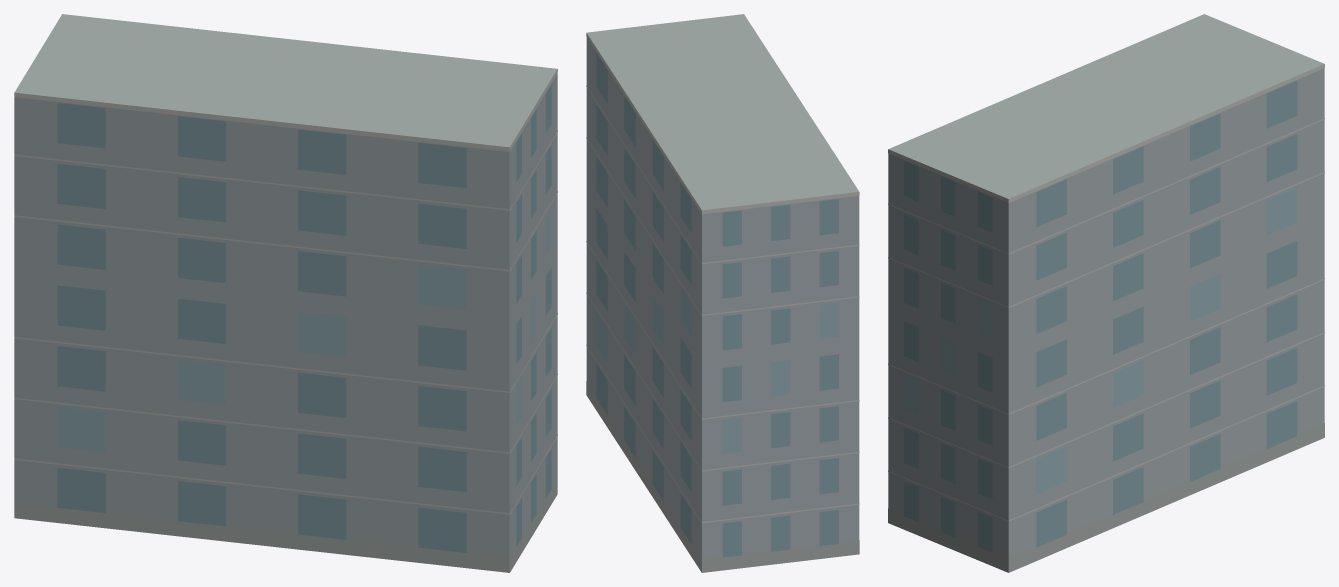
The model's file is survey-upis-32935321.glb.
3 views of the same model, side by side, from view 1: azimuth 30°, elevation 25°; view 2: azimuth 150°, elevation 25°; view 3: azimuth 270°, elevation 25° (orthographic). The views are drawn at different scales.
Parts seen in each view (by area): view 1: survey-upis-32935321.tmp; view 2: survey-upis-32935321.tmp; view 3: survey-upis-32935321.tmp.
Part boxes in pixels (x1,y1,x2,y2): survey-upis-32935321.tmp: (14, 14, 557, 572); survey-upis-32935321.tmp: (586, 14, 859, 572); survey-upis-32935321.tmp: (888, 14, 1324, 572).
Bounding box in the file's own units: 23.62 × 22.23 × 23.55.
